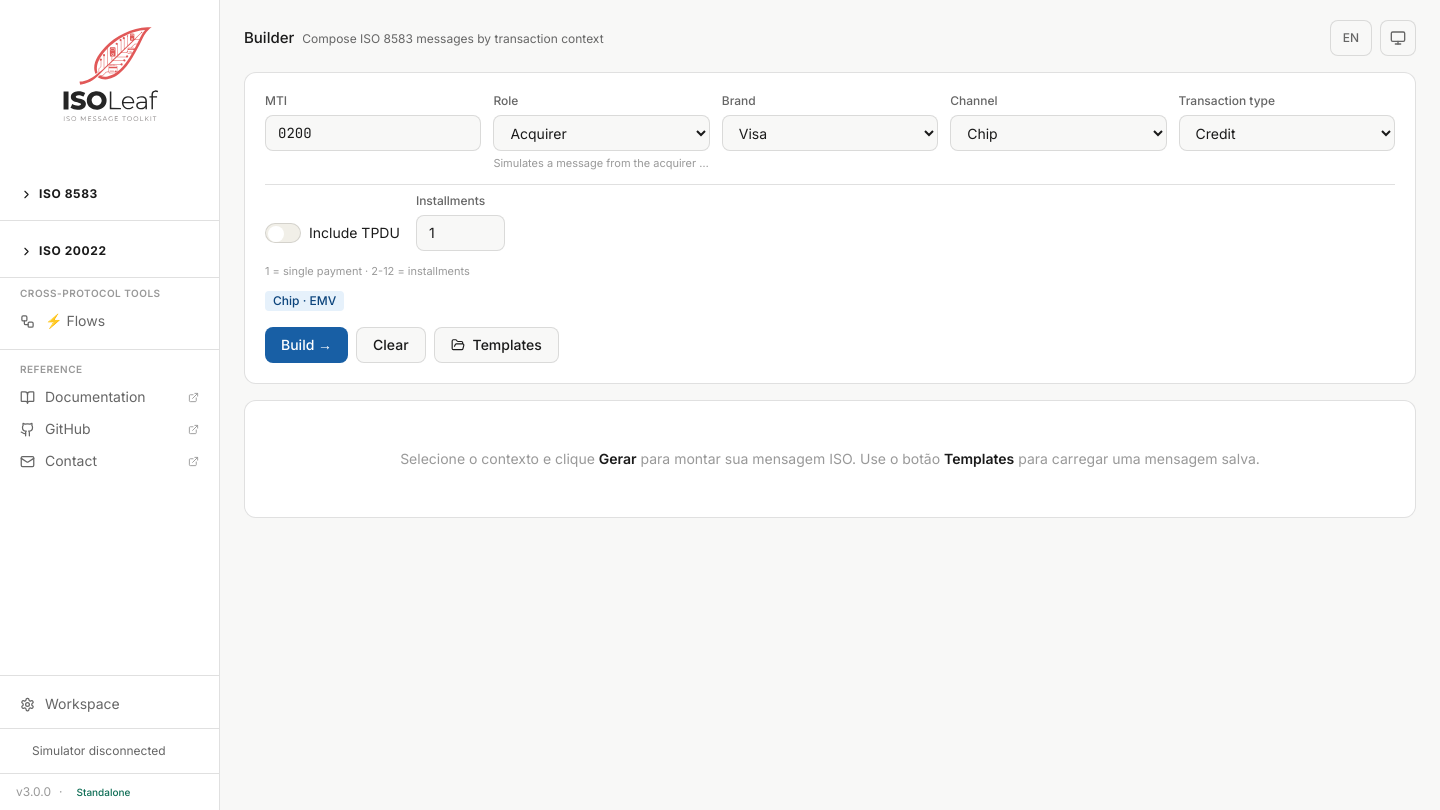
Builder page › Visa brand renders 'Field n' labels
The image size is (1440, 810).
Click the button "Build →" at (307, 345), box [265, 327, 348, 363]
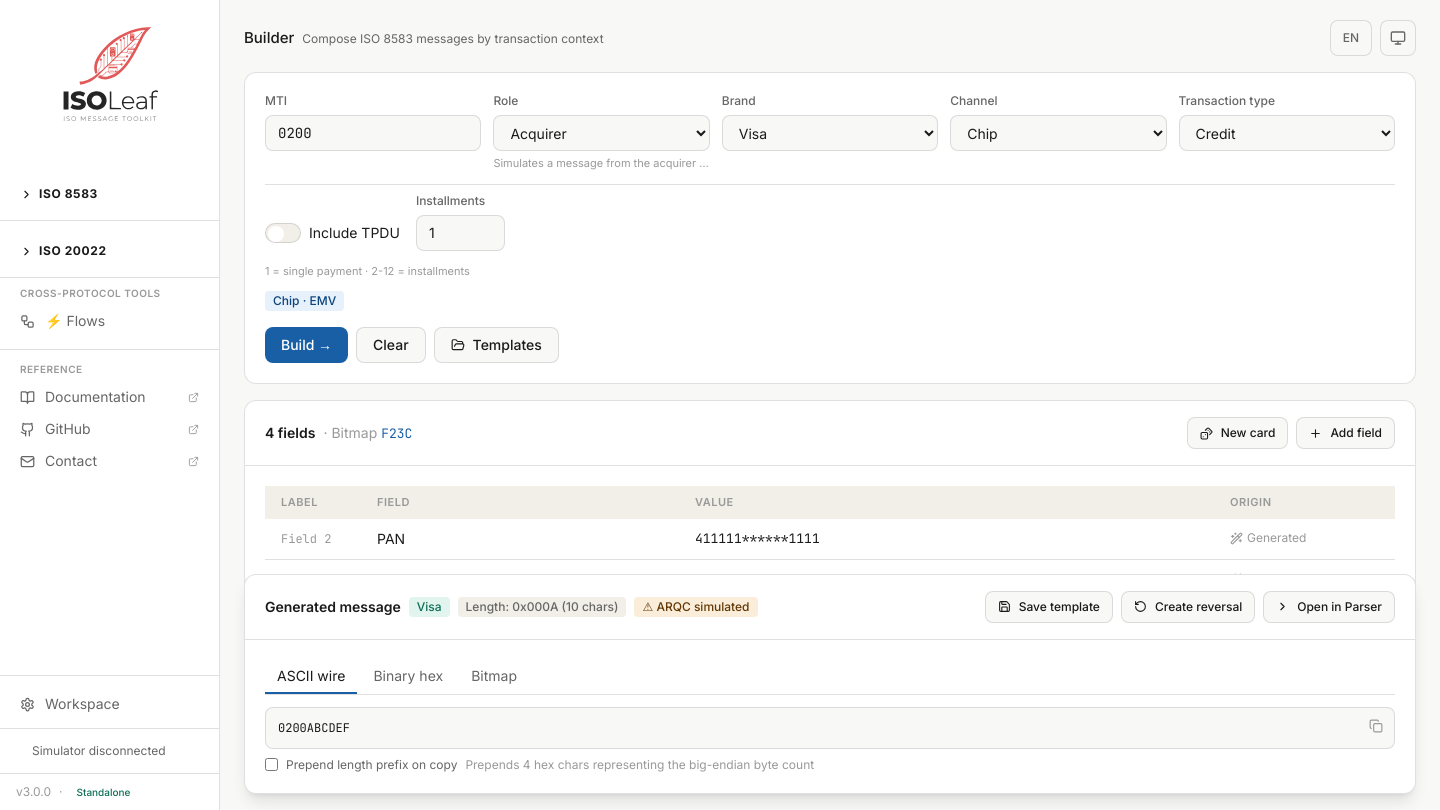
Result: the text "PAN" is shown at [361, 518, 679, 559]
Result: the text "Field 2" is shown at [265, 518, 361, 559]
